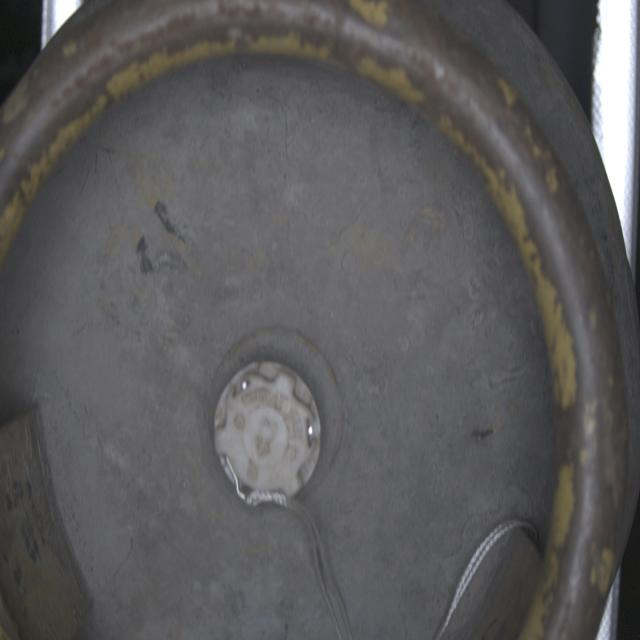Cap: (214, 357, 324, 506)
